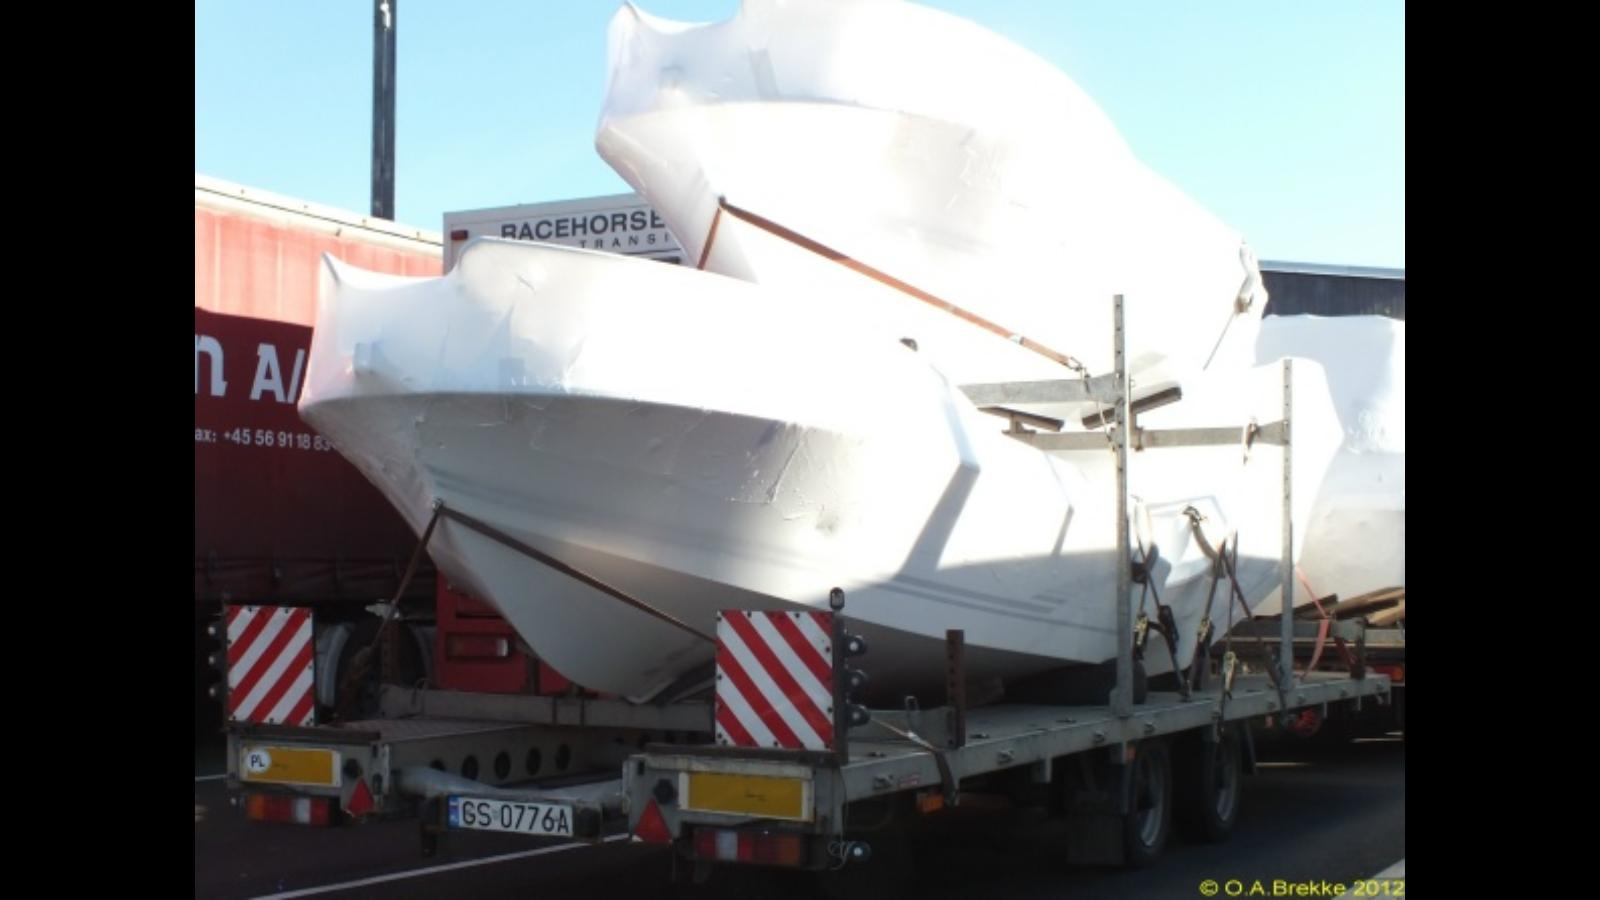plates: (446, 795, 574, 839)
